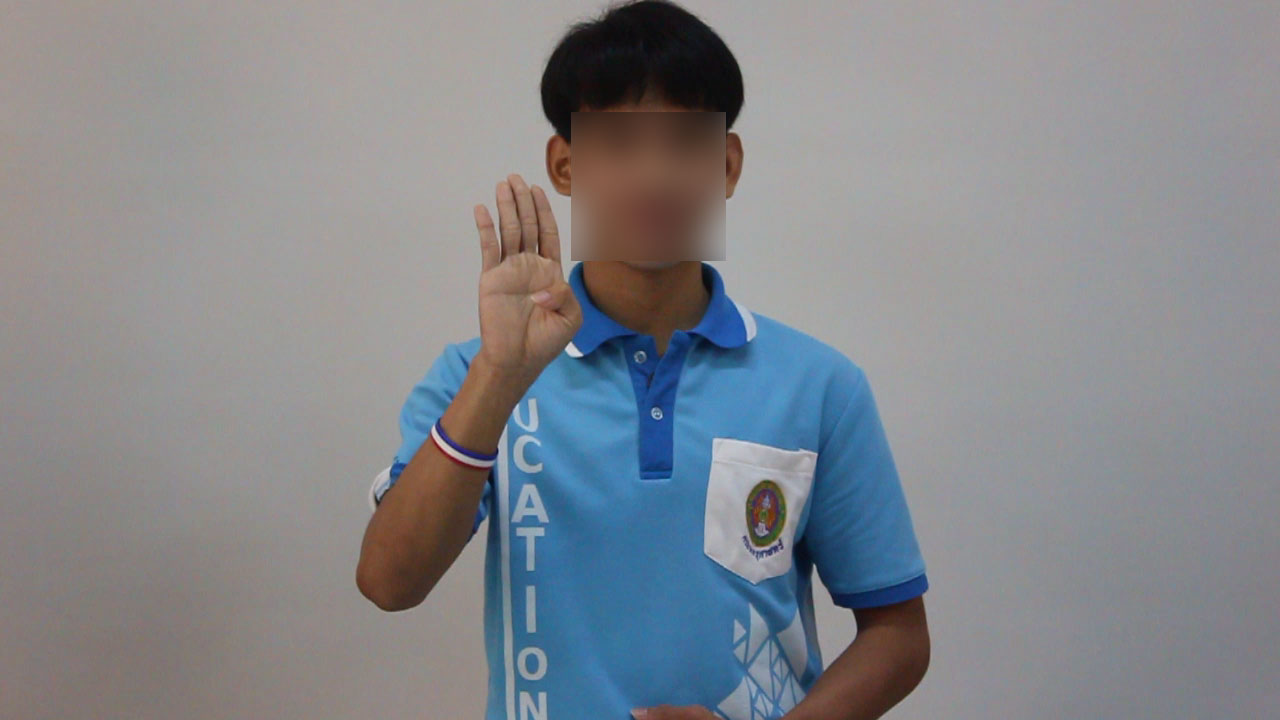bor: (456, 163, 603, 399)
